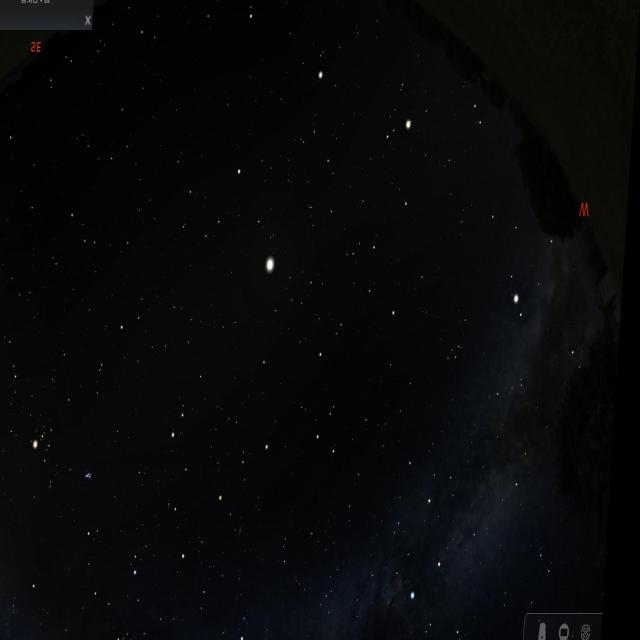cygnus: (405, 487, 521, 640)
pleiades: (85, 457, 105, 485)
taurus: (32, 389, 112, 504)
